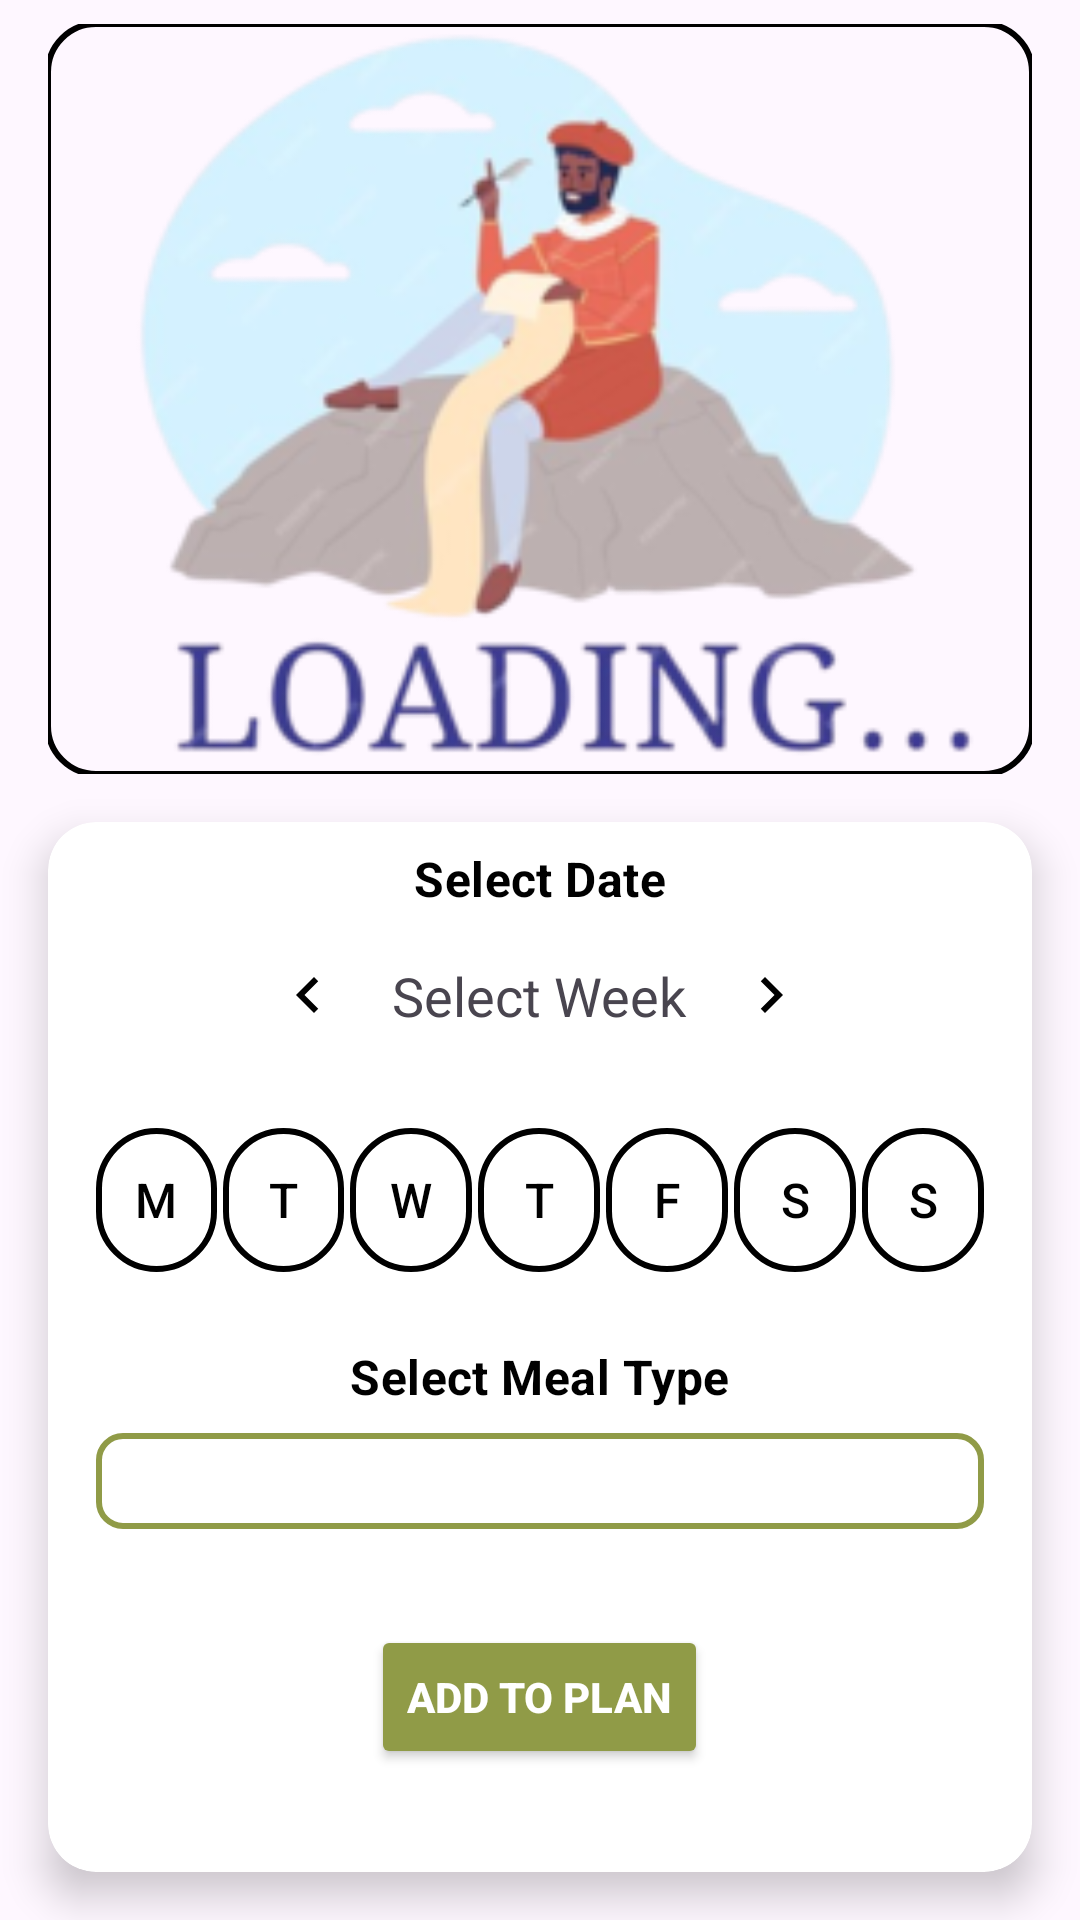

Icons on this 1080×1920 Android screen, each with the point to tap as (x,y):
Next Week: (772,995)
Previous Week: (307,995)
